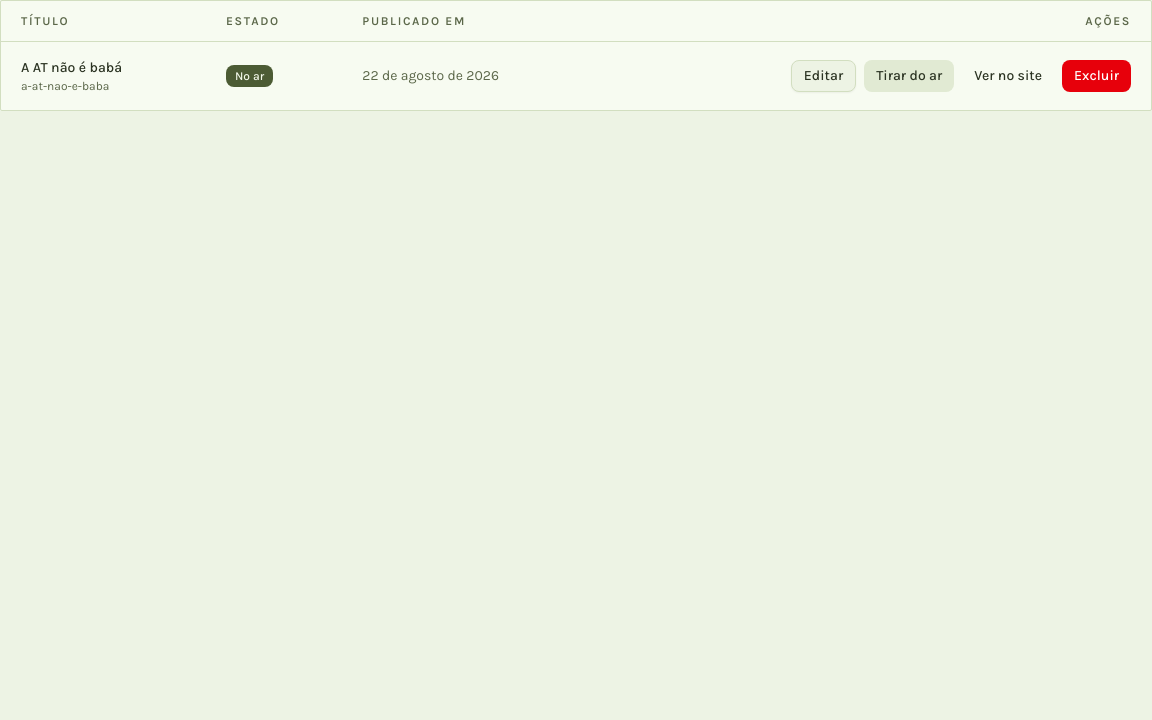
PublicacoesTable › não exclui quando a confirmação é cancelada
What coordinates should you click on to do the following:
click the button "Excluir"
I would click on:
 (1096, 76)
Its box is [1062,60,1131,92].
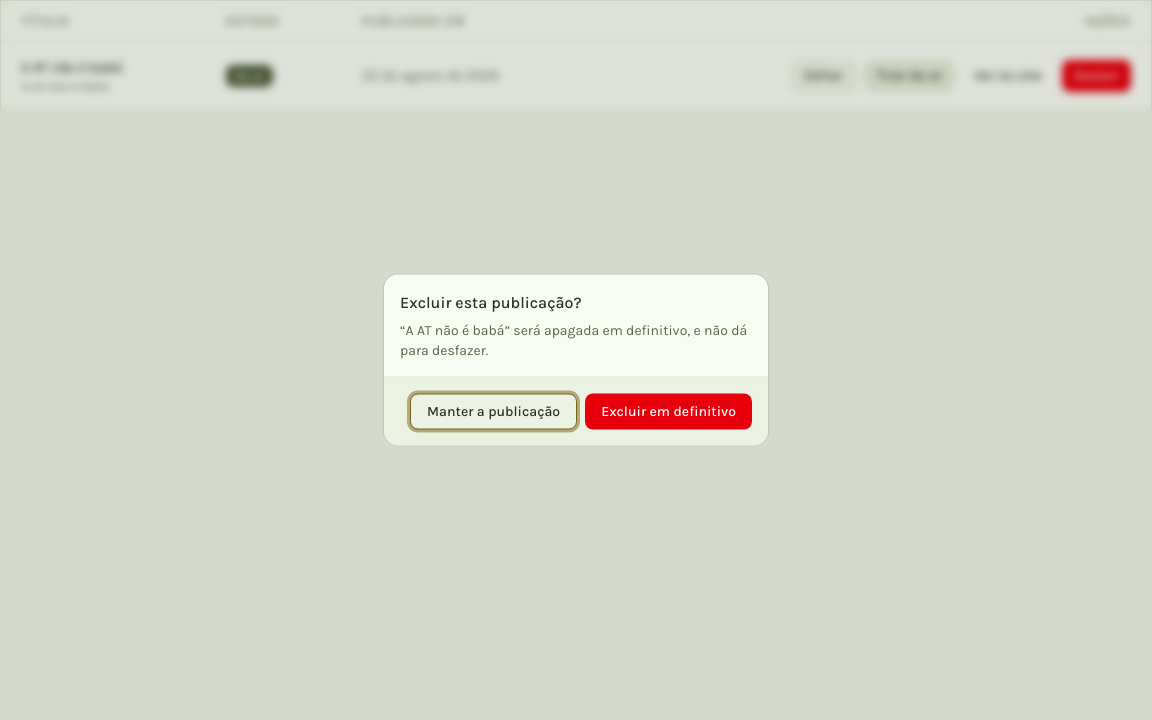
What coordinates should you click on to do the following:
click the button "Manter a publicação"
I would click on:
 (494, 412)
Its box is [410,394,577,430].
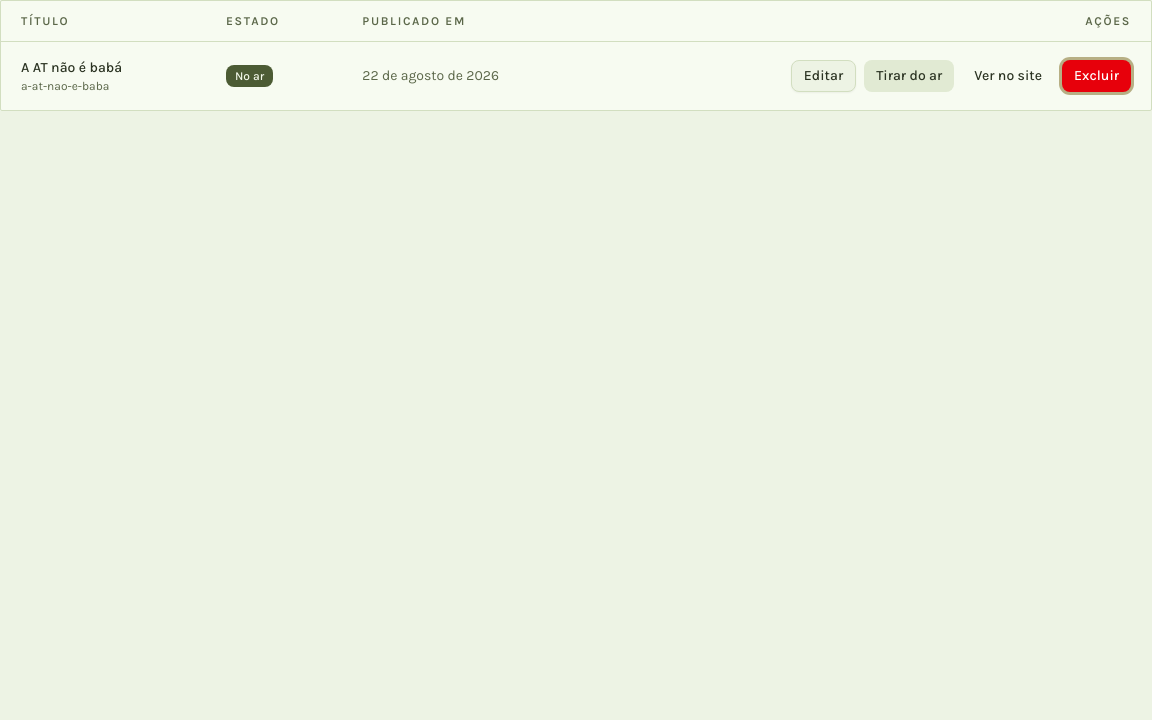
Expected: the dialog is gone
